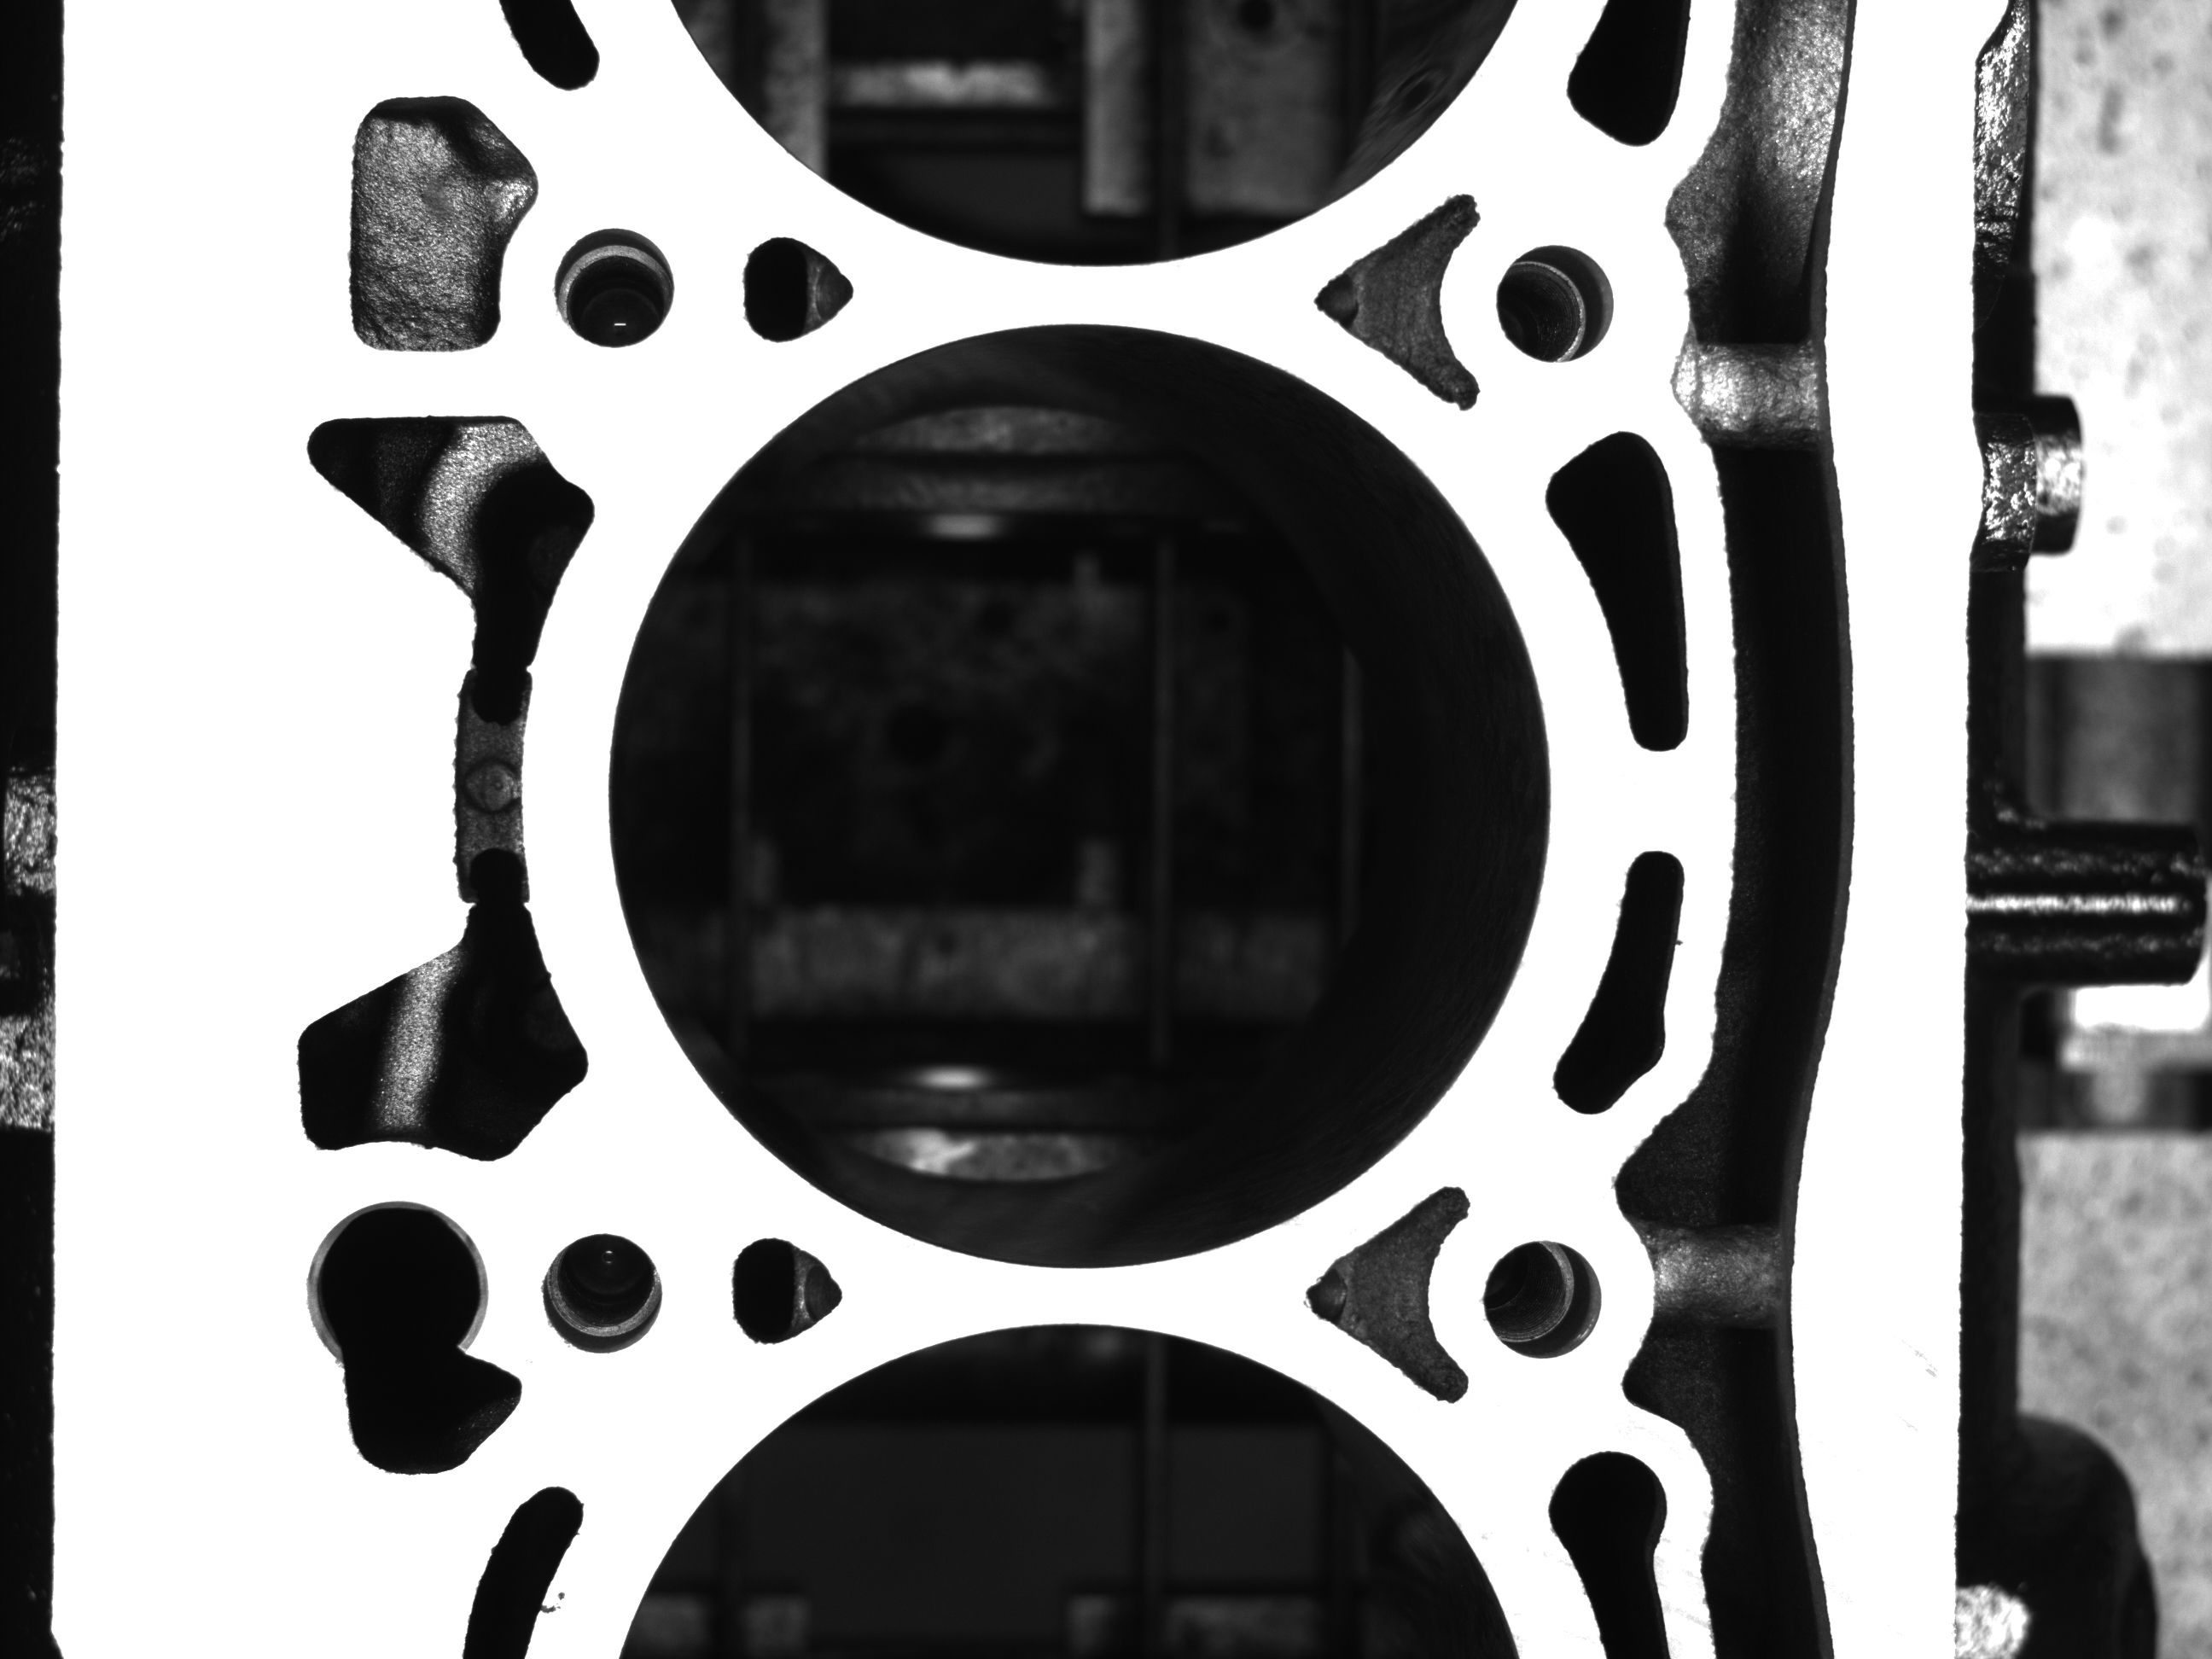crackle: (529, 1595, 577, 1621)
